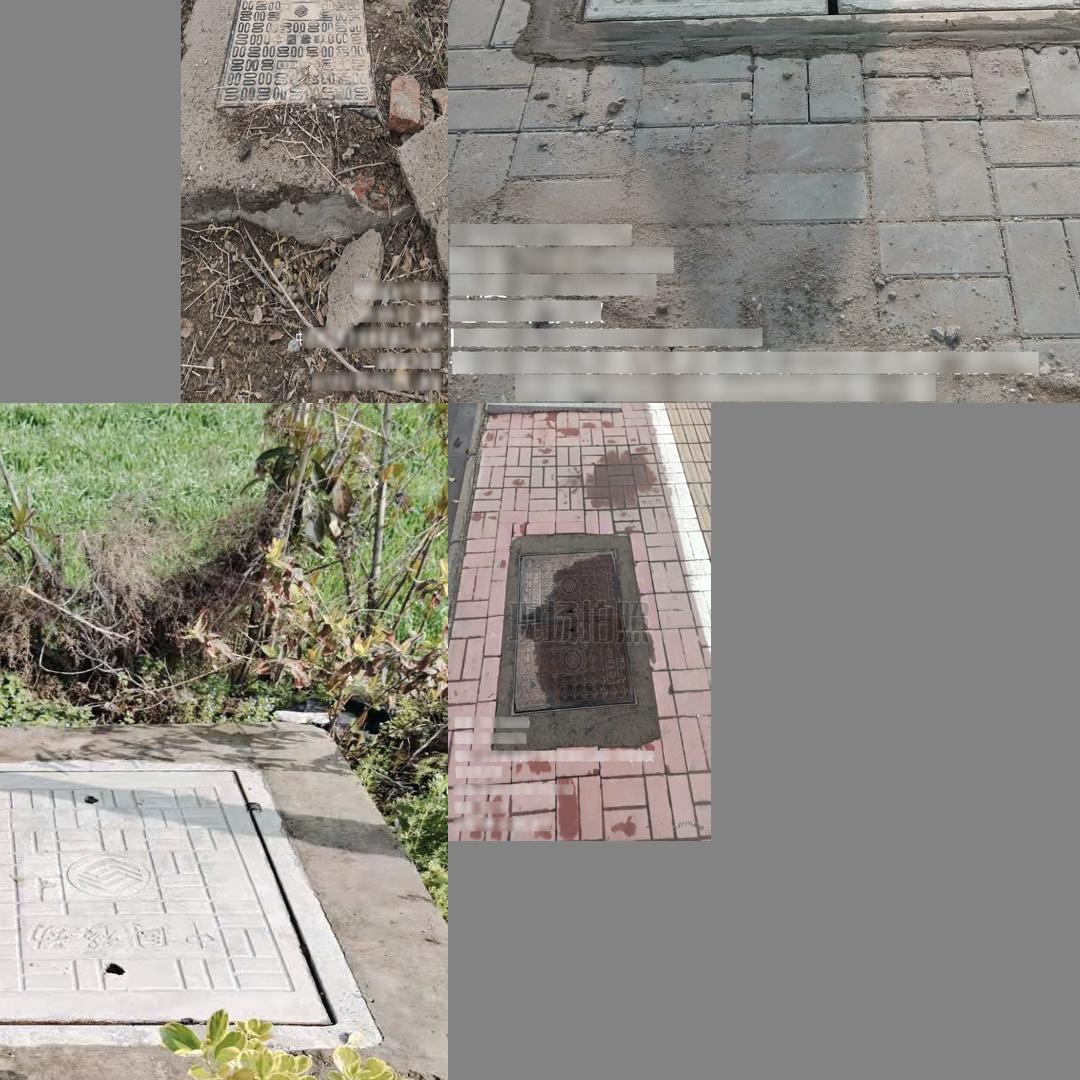good: (0, 761, 383, 1045), (511, 547, 637, 713), (213, 0, 375, 109), (564, 0, 1080, 24)
